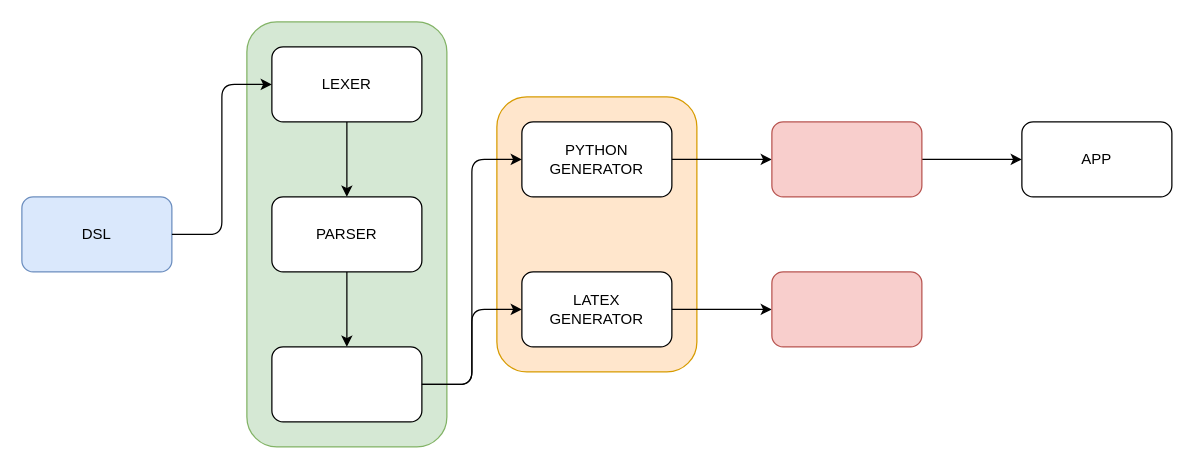
This 1194x469 diagram has some shape labels left out. Each missing label, with the centre of its shape:
"LATEX" belongs at pixel 846 309.
"PARSED TREE GENERATOR" belongs at pixel 346 384.
"PYTHON" belongs at pixel 846 159.
